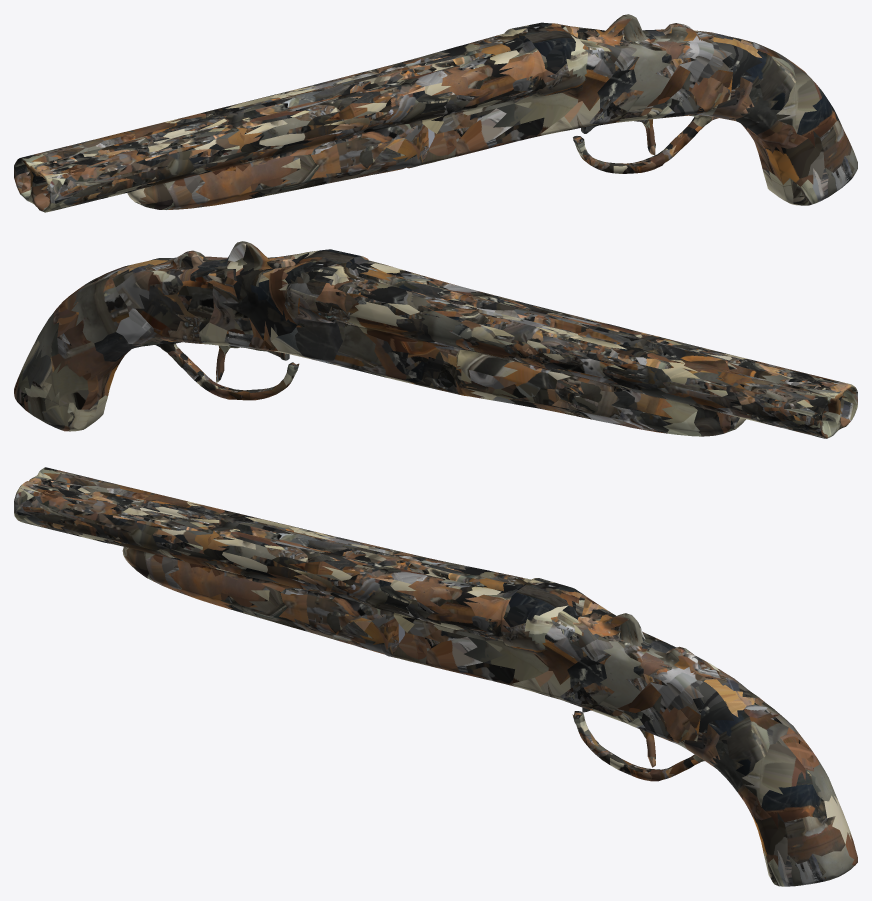
Rendered from шут_test_texture.fbx.
3 views of the same model, one above another, from view 1: azimuth 30°, elevation 25°; view 2: azimuth 150°, elevation 25°; view 3: azimuth 330°, elevation 25° (orthographic).
Parts seen in each view (by area): view 1: temp; view 2: temp; view 3: temp.
Part boxes in pixels (box(x1,y1,x2,y2)): temp: box(14, 14, 857, 212); temp: box(14, 241, 857, 438); temp: box(14, 467, 857, 886).
Bounding box in the file's own units: 200 × 53.02 × 19.49.
